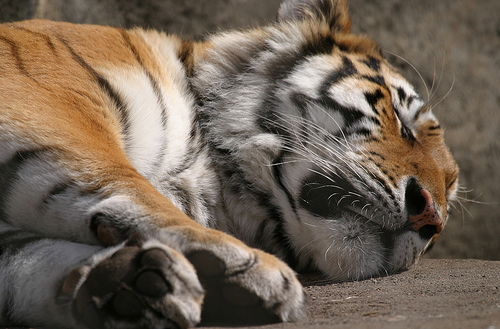Tigre: (11, 7, 476, 326)
